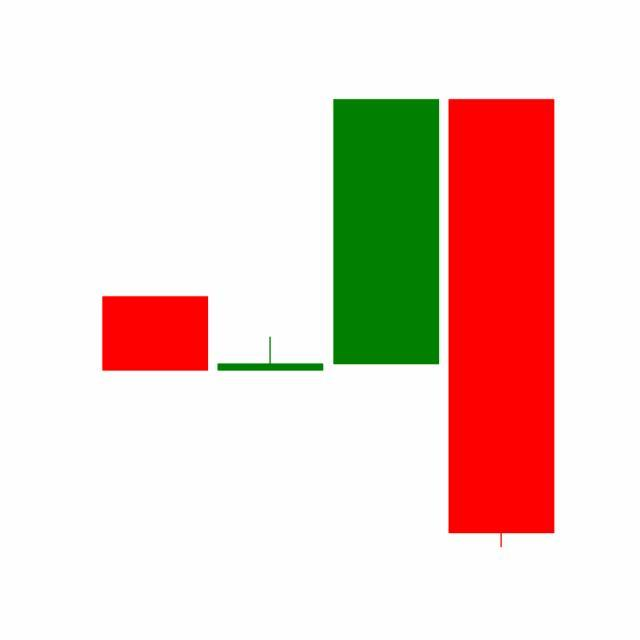Marubozu: (329, 97, 445, 368)
